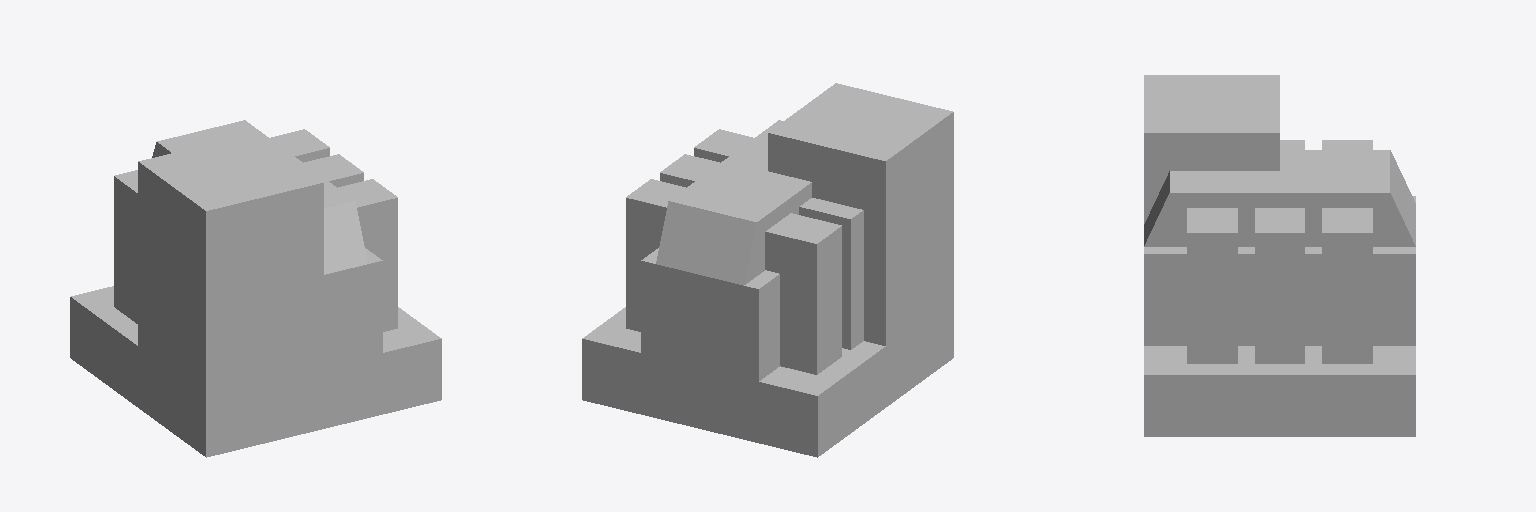
File: geothermal_generator.obj
3 renders of one model, left to right at view 1: azimuth 30°, elevation 25°; view 2: azimuth 150°, elevation 25°; view 3: azimuth 270°, elevation 25°, orthographic.
Visible parts, largest first — view 1: base, body, top, l1, r1, l2, l3; view 2: base, body, top, r1, l3, r2, l2, l1; view 3: base, top, body, l1, l3, l2.
Part boxes in pixels (x1,y1,x2,y2): base: (70,133,441,457); body: (324,248,382,366); top: (152,120,367,274); l1: (338,179,397,331); r1: (114,170,137,323); l2: (304,154,363,187); l3: (270,129,329,162); base: (582,83,953,457); body: (641,248,779,381); top: (656,120,811,285); r1: (765,213,841,374); l3: (626,179,685,331); r2: (799,198,863,349); l2: (660,154,719,187); l1: (694,129,753,162); base: (1144,75,1415,436); top: (1144,150,1415,246); body: (1144,196,1415,345); l1: (1187,208,1237,363); l3: (1322,208,1372,363); l2: (1255,208,1304,363).
Size of the model in its own units: 2 by 2 by 2.